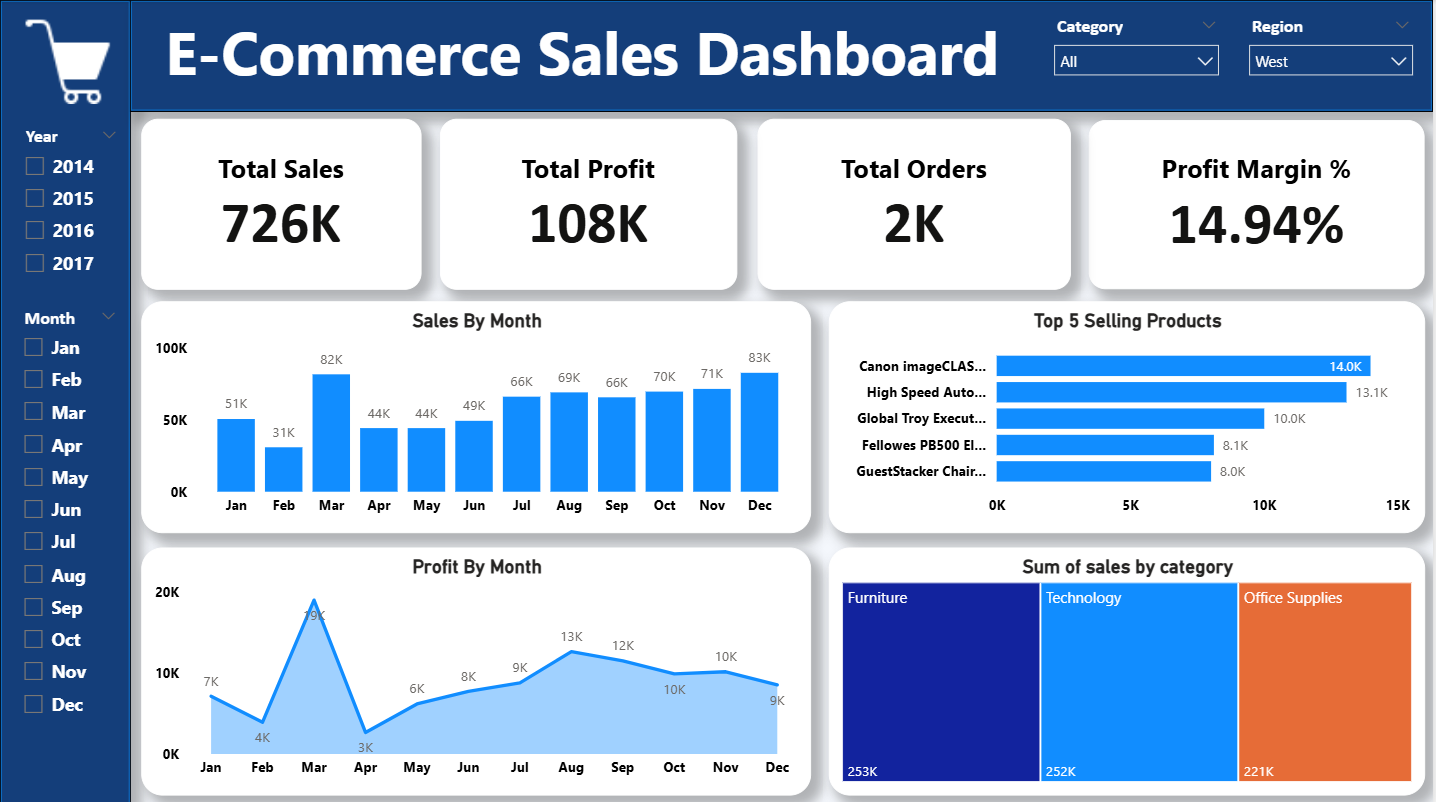

What the dashboard file says about the page in this screenshot:
{"tool":"powerbi","page":{"name":"Page 1","canvas":[1280,720],"ordinal":0},"visuals":[{"type":"shape","box":[0,0,117.1,720],"z":0},{"type":"image","box":[147.1,21.4,84.3,77.1],"z":1000},{"type":"shape","box":[115.7,0,1164.3,100],"z":2000},{"type":"slicer","fields":{"Values":["cleaned_dataset.Year"]},"box":[10,106.7,106.7,153.3],"z":3000},{"type":"textbox","box":[117.1,4.3,805.7,91.4],"z":4000},{"type":"slicer","fields":{"Values":["cleaned_dataset.Month"]},"box":[8.6,268.6,107.1,444.3],"z":5000},{"type":"slicer","fields":{"Values":["cleaned_dataset.category"]},"box":[931.4,8.6,167.9,90.7],"z":6000},{"type":"slicer","fields":{"Values":["cleaned_dataset.region"]},"box":[1105.7,8.6,166.4,90.7],"z":7000},{"type":"cardVisual","fields":{"Data":["cleaned_dataset.Total Sales"]},"box":[125.7,105.7,250,152.9],"z":8000},{"type":"cardVisual","fields":{"Data":["cleaned_dataset.Profit Margin %"]},"box":[972.9,107.1,300,151.4],"z":9000},{"type":"cardVisual","fields":{"Data":["cleaned_dataset.Total Orders"]},"box":[677.1,105.7,280,152.9],"z":10000},{"type":"cardVisual","fields":{"Data":["cleaned_dataset.Total Profit"]},"box":[392.9,105.7,265.7,152.9],"z":11000},{"type":"columnChart","title":"Sales By Month","fields":{"Y":["Sum(cleaned_dataset.sales)"],"Category":["cleaned_dataset.Month"]},"box":[125.7,268.6,598.6,207.1],"z":12000},{"type":"areaChart","title":"Profit By Month","fields":{"Category":["cleaned_dataset.Month"],"Y":["Sum(cleaned_dataset.profit)"]},"box":[125.7,488.6,598.6,221.4],"z":13000},{"type":"clusteredBarChart","title":"Top 5 Selling Products","fields":{"Category":["cleaned_dataset.product_name"],"Y":["Sum(cleaned_dataset.sales)"]},"box":[740,268.6,532.9,207.1],"z":14000},{"type":"treemap","fields":{"Group":["cleaned_dataset.category"],"Values":["Sum(cleaned_dataset.sales)"]},"box":[740,488.6,532.9,221.4],"z":15000},{"type":"image","box":[15.7,14.3,92.9,78.6],"z":16000}]}

Visuals, with their boxes in screenshot pixels (x1, y1, x2, y2), scaled from the page's 1280x720 canvas onto the 1436x802 screenshot:
shape: detection(0, 0, 131, 801)
image: detection(165, 24, 260, 110)
shape: detection(130, 0, 1435, 111)
slicer - cleaned_dataset.Year: detection(11, 119, 131, 290)
textbox: detection(131, 5, 1035, 107)
slicer - cleaned_dataset.Month: detection(10, 299, 130, 794)
slicer - cleaned_dataset.category: detection(1045, 10, 1233, 111)
slicer - cleaned_dataset.region: detection(1240, 10, 1427, 111)
cardVisual - cleaned_dataset.Total Sales: detection(141, 118, 421, 288)
cardVisual - cleaned_dataset.Profit Margin %: detection(1091, 119, 1428, 288)
cardVisual - cleaned_dataset.Total Orders: detection(760, 118, 1074, 288)
cardVisual - cleaned_dataset.Total Profit: detection(441, 118, 739, 288)
"Sales By Month" columnChart: detection(141, 299, 813, 530)
"Profit By Month" areaChart: detection(141, 544, 813, 791)
"Top 5 Selling Products" clusteredBarChart: detection(830, 299, 1428, 530)
treemap - cleaned_dataset.category x Sum(cleaned_dataset.sales): detection(830, 544, 1428, 791)
image: detection(18, 16, 122, 103)
